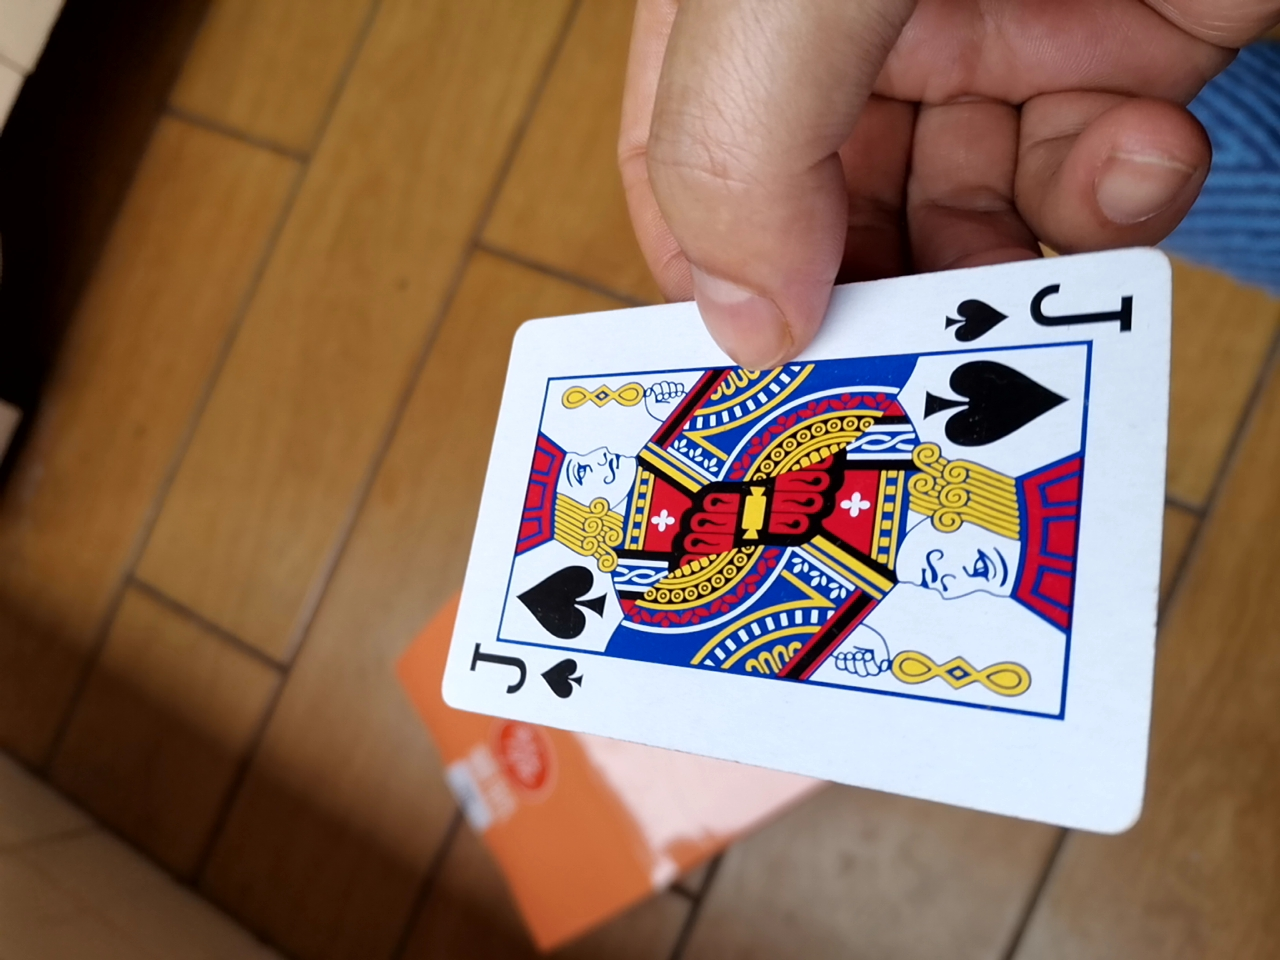ht j: (411, 251, 1163, 827)
